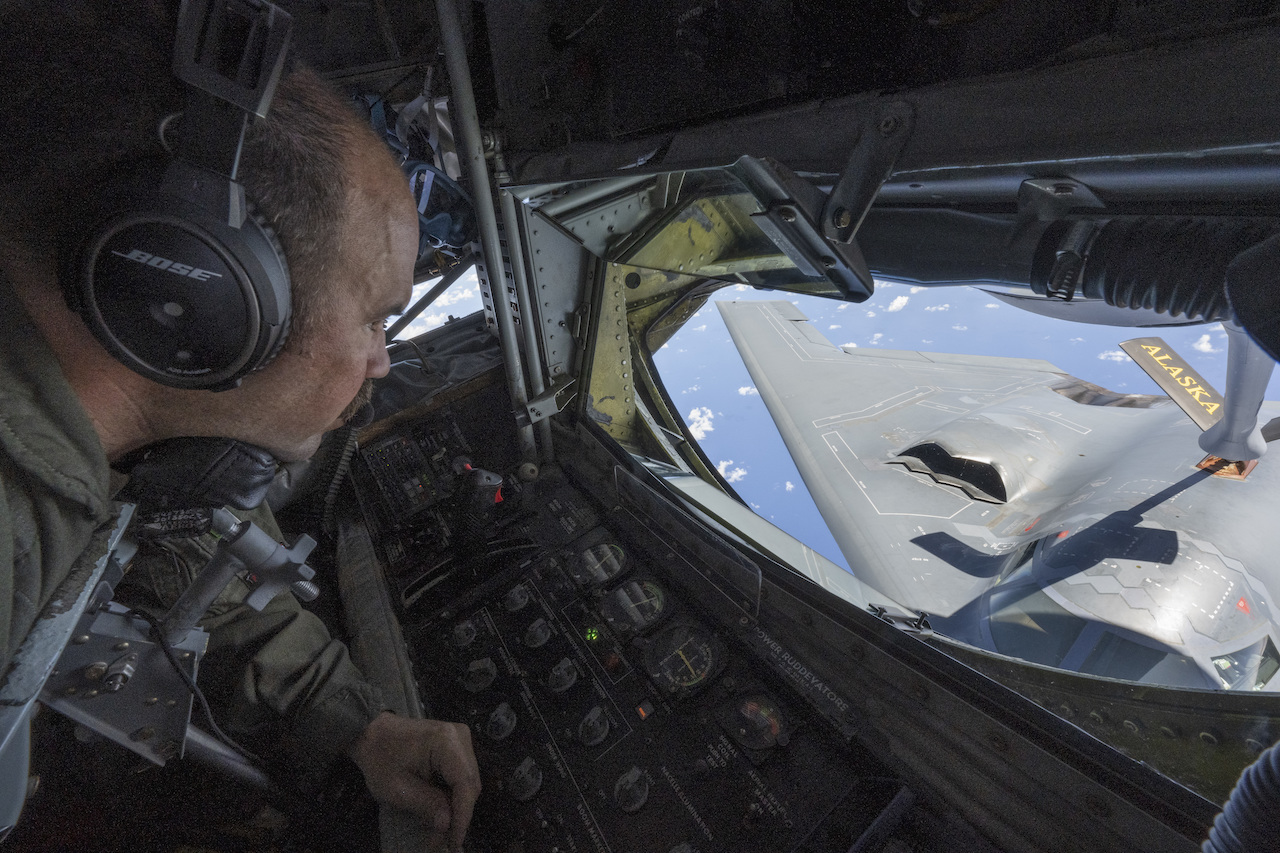B2: (714, 299, 1280, 691)
